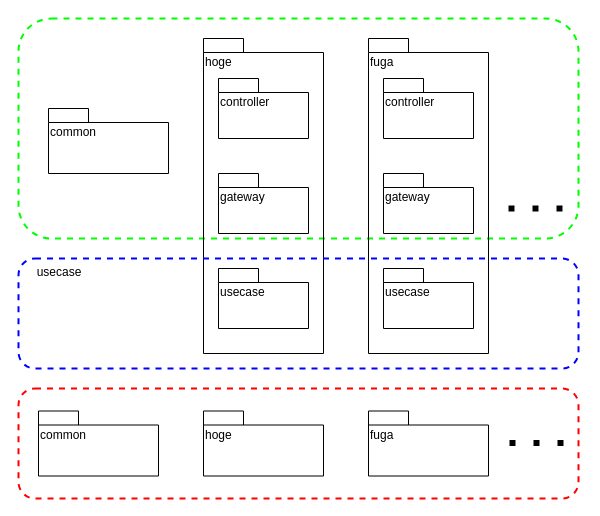
The diagram is 600 pixels wide and 516 high, and some of its shapes have lost their labels. The shapes that lost their labels are listed below. From the top down, each one's box as (x1, y1, x2, y2) in pixels, then its label:
(17, 17, 579, 239): controller/gateway
(17, 387, 579, 499): domain/usecase(i)/repository(i)
